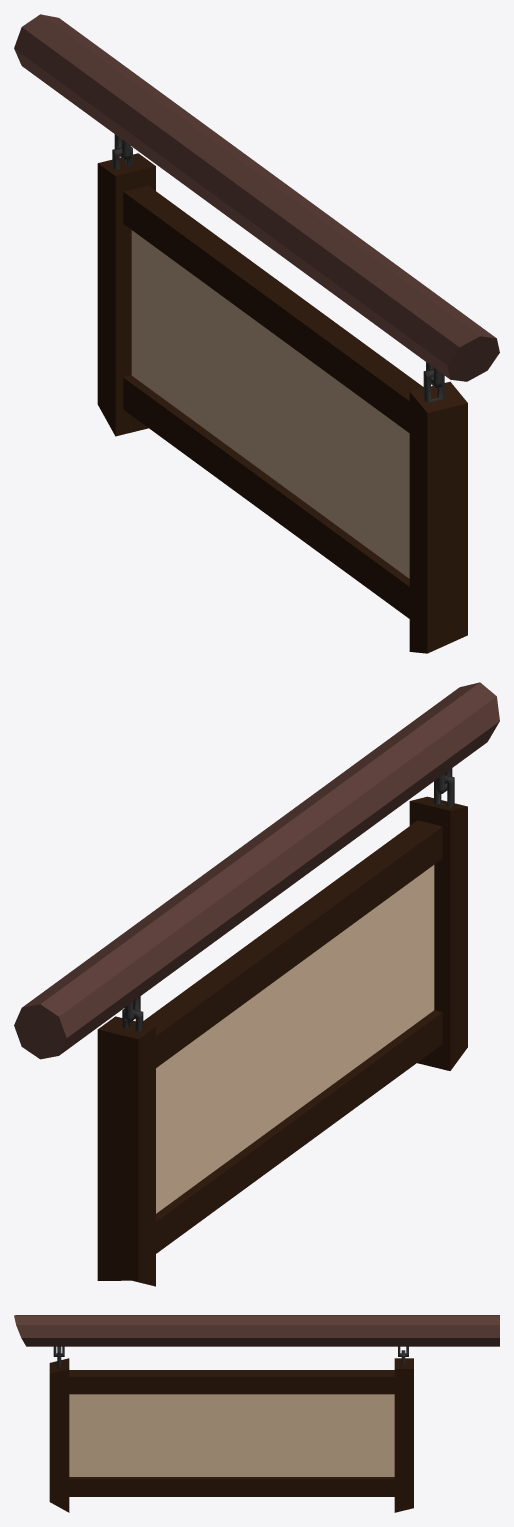
The model's file is Building_Sign.fbx.
3 views of the same model, one above another, from view 1: azimuth 30°, elevation 25°; view 2: azimuth 150°, elevation 25°; view 3: azimuth 270°, elevation 25° (orthographic). The views are drawn at different scales.
Visible parts, largest first — view 1: Building_Sign; view 2: Building_Sign; view 3: Building_Sign.
Boxes of the visible parts, x1=… form: Building_Sign: x1=14, y1=14, x2=499, y2=653; Building_Sign: x1=14, y1=682, x2=499, y2=1286; Building_Sign: x1=14, y1=1315, x2=499, y2=1512.
Bounding box in the file's own units: 13.96 × 87.87 × 202.
